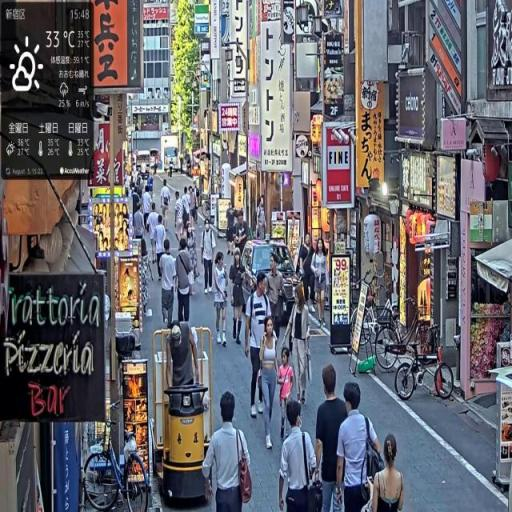person: (335, 377, 385, 512), (204, 390, 254, 512), (315, 364, 350, 512), (280, 396, 321, 512), (243, 272, 273, 420), (283, 284, 314, 409), (259, 316, 281, 457), (369, 433, 407, 512), (265, 253, 287, 351), (277, 344, 296, 447), (176, 237, 197, 326), (230, 248, 248, 348), (160, 240, 179, 333), (311, 238, 330, 330), (214, 251, 231, 350), (202, 220, 219, 300)
